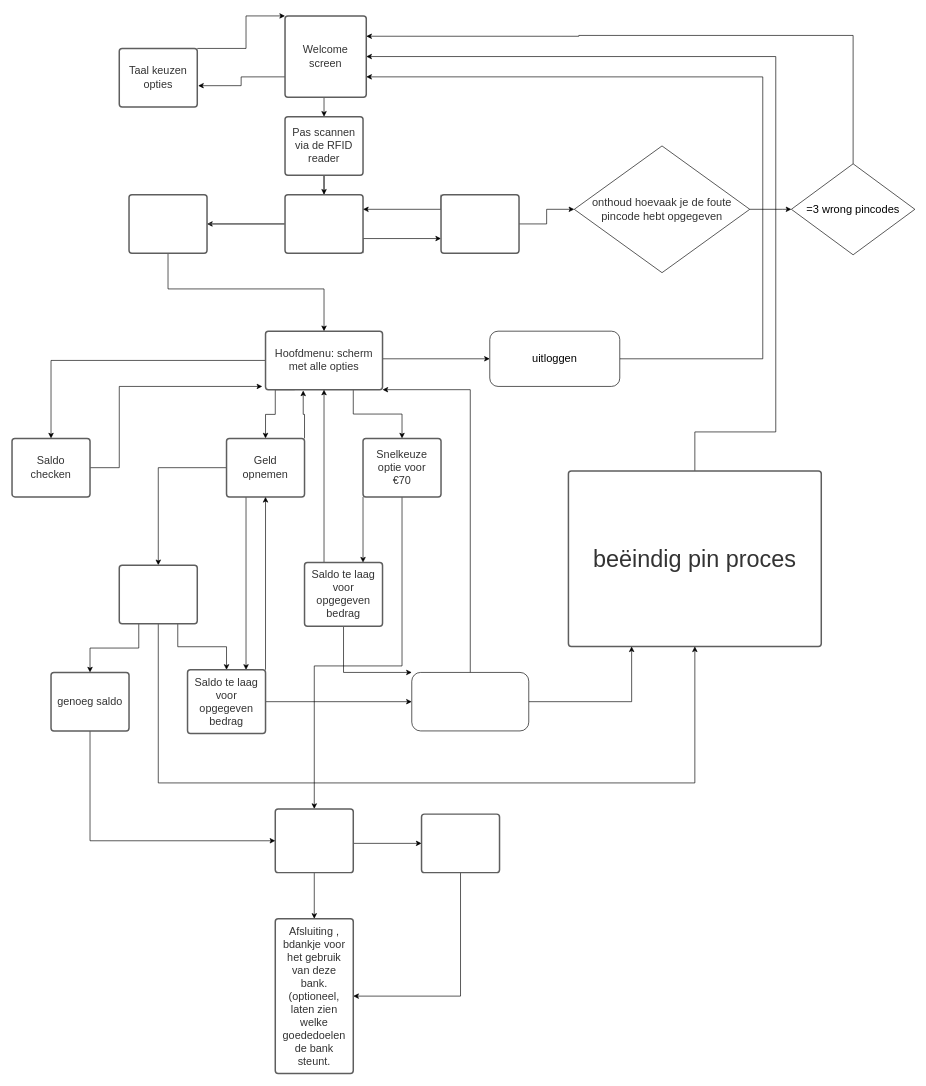
Image size: 926x1086. Some labels were removed from this diagram. Each missing label, with the centre of its shape:
Keuze bankbiljetten: the point at 158,594
keuze voor digitale bon: the point at 460,843
Login scherm om pincode in te voeren: the point at 323,224
pincode correct: the point at 167,224
pincode incorrect: the point at 479,224
Scherm met keuze of je een bonnetje wilt: the point at 314,840
U heeft € .... in uw bank account: the point at 470,701
